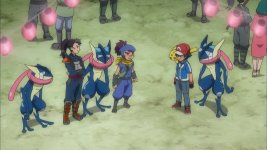greninja: (7, 61, 59, 140), (190, 33, 234, 120), (78, 41, 114, 120)
pikachu: (168, 44, 198, 64)
